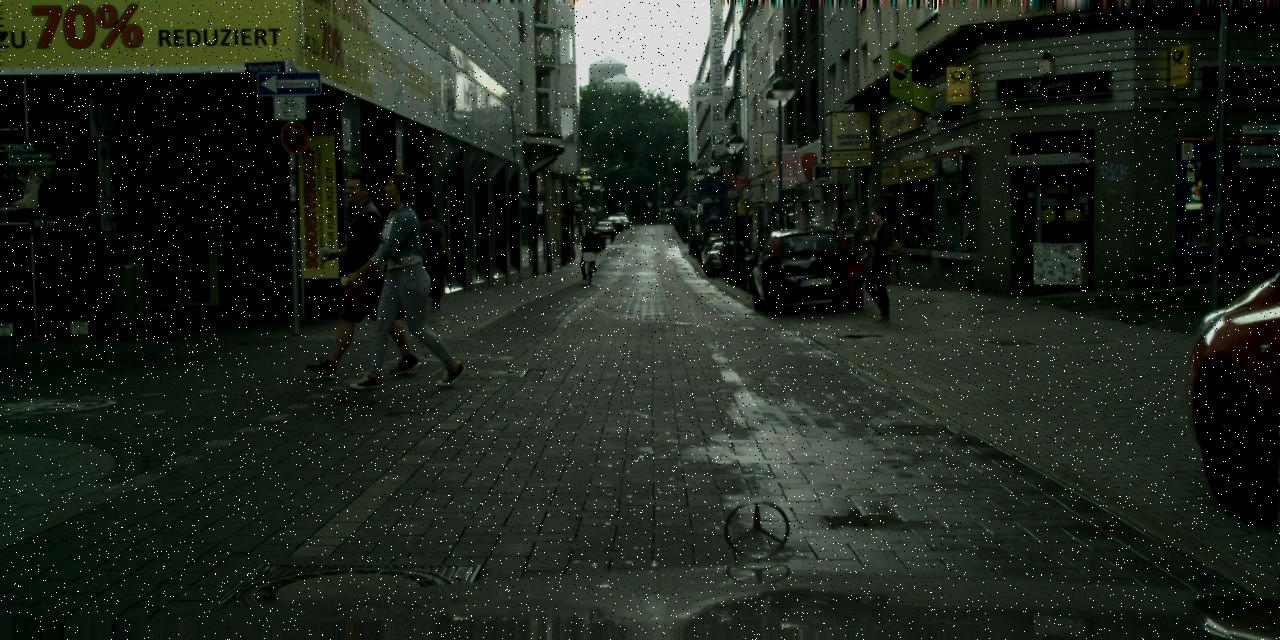ped: (360, 173, 448, 388), (323, 174, 406, 376), (856, 206, 904, 322), (408, 208, 451, 312), (580, 229, 598, 275), (576, 222, 584, 242), (697, 212, 703, 227), (659, 210, 663, 222)
